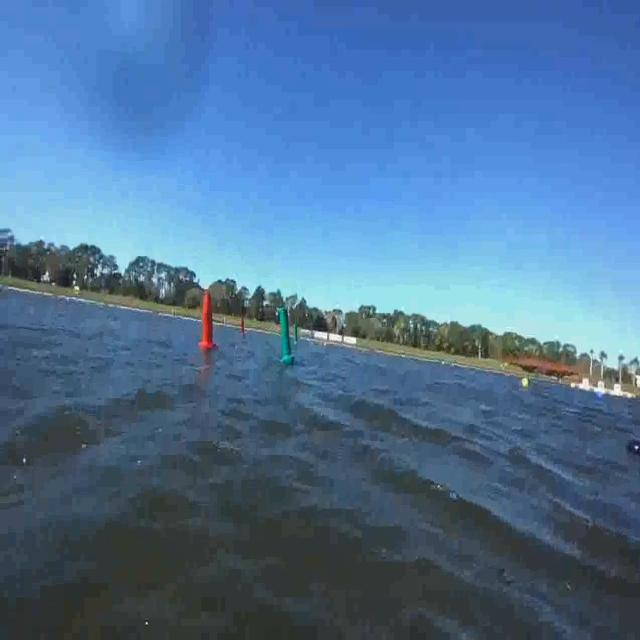green-column-buoy: (277, 306, 295, 370)
red-column-buoy: (199, 292, 217, 350)
